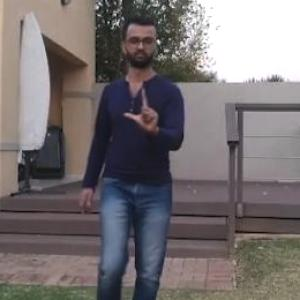land_hand: (120, 79, 165, 136)
